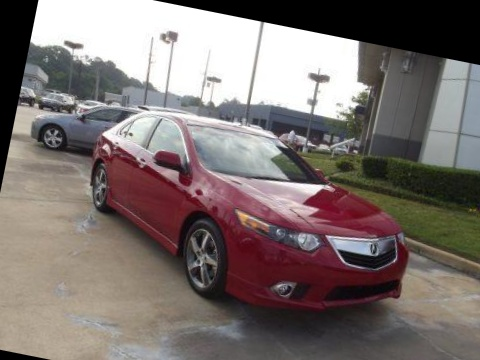car: (64, 86, 439, 344)
